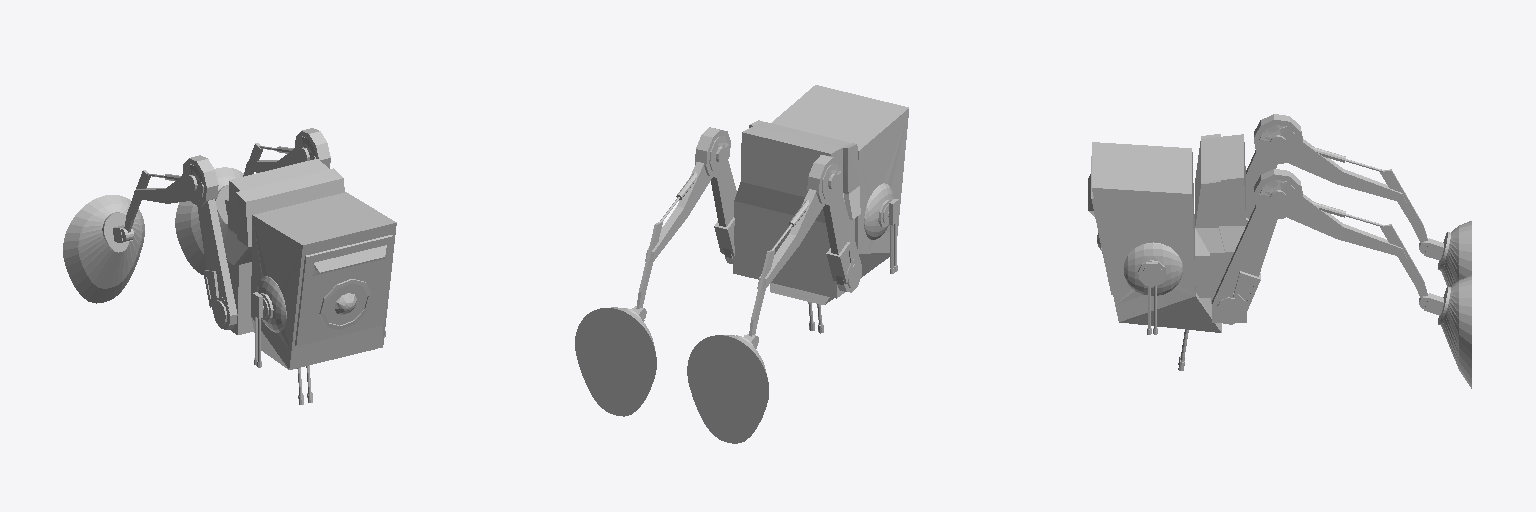
The model's file is robot1.obj.
3 views of the same model, side by side, from view 1: azimuth 30°, elevation 25°; view 2: azimuth 150°, elevation 25°; view 3: azimuth 270°, elevation 25° (orthographic).
Visible parts, largest first — view 1: Head, Body, FeetRight, ThighRight, FeetLeft, ThighLeft, LegRight, LegBottomRight, LegLeft; view 2: Body, Head, FeetLeft, FeetRight, ThighRight, ThighLeft, LegRight, LegLeft, LegBottomRight, LegBottomLeft; view 3: Head, Body, ThighLeft, ThighRight, FeetLeft, LegRight, LegLeft, FeetRight, LegBottomRight, LegBottomLeft.
Boxes of the visible parts, x1=… form: Head: x1=251, y1=192, x2=396, y2=369; Body: x1=224, y1=159, x2=344, y2=334; FeetRight: x1=63, y1=195, x2=144, y2=303; ThighRight: x1=182, y1=155, x2=237, y2=329; FeetLeft: x1=175, y1=167, x2=243, y2=274; ThighLeft: x1=295, y1=128, x2=330, y2=168; LegRight: x1=133, y1=176, x2=190, y2=203; LegBottomRight: x1=113, y1=170, x2=150, y2=242; LegLeft: x1=245, y1=148, x2=297, y2=172; Body: x1=733, y1=120, x2=860, y2=298; Head: x1=770, y1=85, x2=908, y2=304; FeetLeft: x1=575, y1=307, x2=656, y2=416; FeetRight: x1=687, y1=335, x2=768, y2=443; ThighRight: x1=807, y1=155, x2=861, y2=292; ThighLeft: x1=695, y1=127, x2=736, y2=263; LegRight: x1=757, y1=189, x2=824, y2=290; LegLeft: x1=645, y1=162, x2=712, y2=262; LegBottomRight: x1=744, y1=250, x2=774, y2=348; LegBottomLeft: x1=631, y1=222, x2=662, y2=321; Head: x1=1088, y1=142, x2=1221, y2=332; Body: x1=1195, y1=134, x2=1246, y2=322; ThighLeft: x1=1212, y1=169, x2=1302, y2=324; ThighRight: x1=1246, y1=114, x2=1302, y2=224; FeetLeft: x1=1438, y1=275, x2=1471, y2=388; LegRight: x1=1286, y1=139, x2=1406, y2=203; LegLeft: x1=1287, y1=194, x2=1406, y2=258; FeetRight: x1=1438, y1=221, x2=1471, y2=286; LegBottomRight: x1=1380, y1=169, x2=1443, y2=260; LegBottomLeft: x1=1380, y1=224, x2=1443, y2=315.
Size of the model in its own units: 4.73 by 5.19 by 8.08.